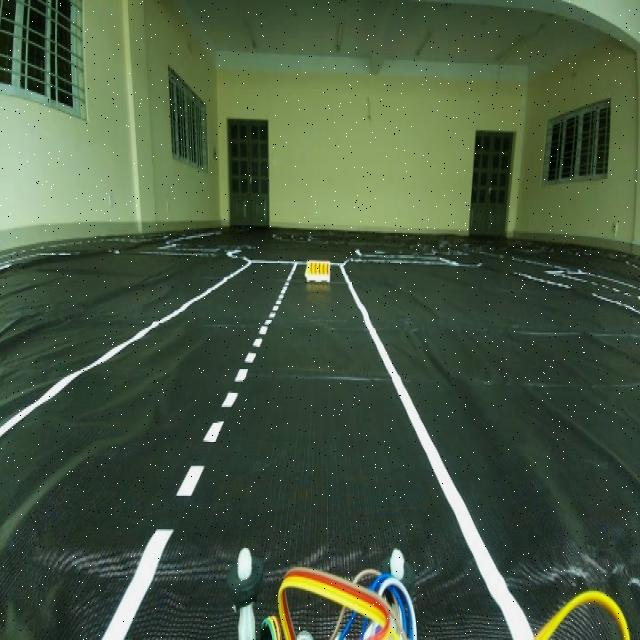roadblock: (301, 246, 335, 305)
